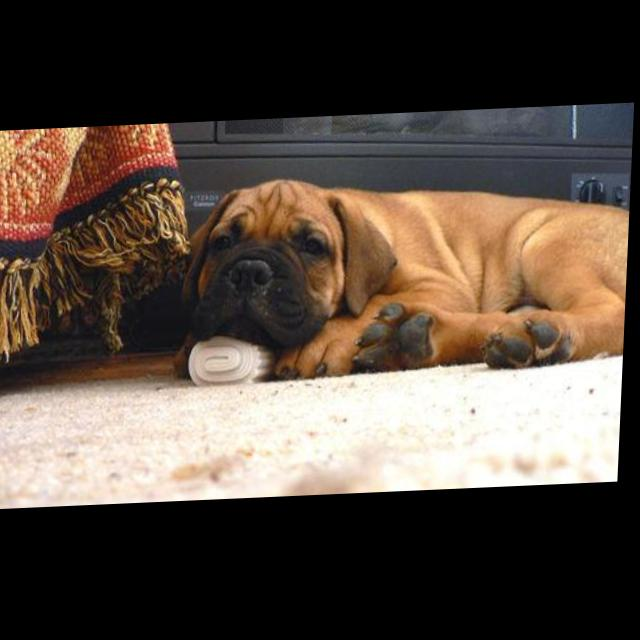bullmastiff: (177, 168, 634, 387)
